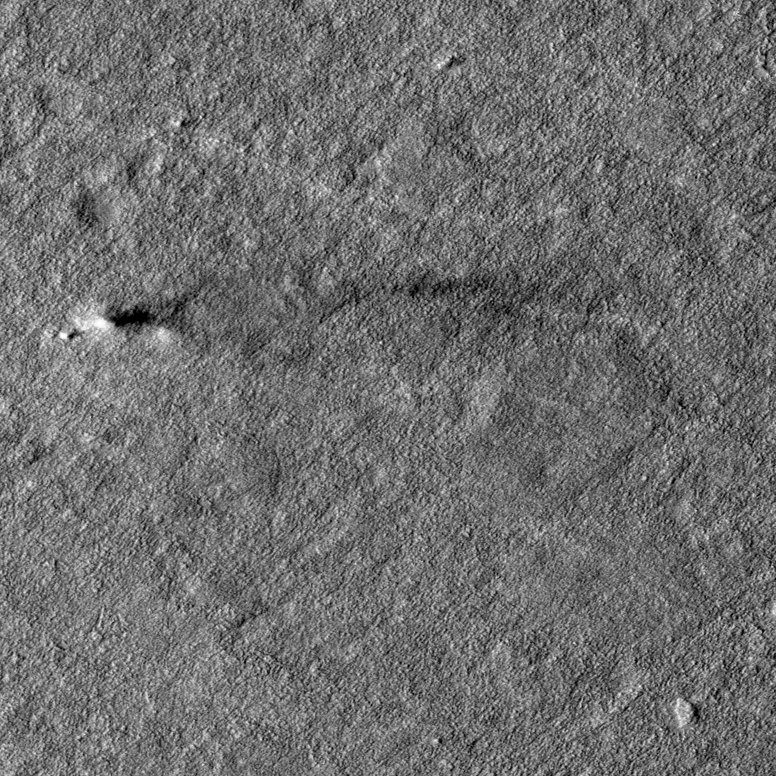dust_devil: (57, 293, 187, 341)
